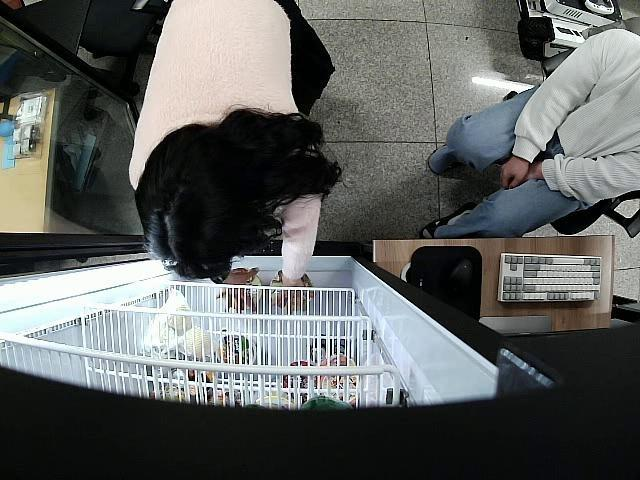03_chapagetti_L: (270, 270, 312, 308), (224, 275, 263, 312)
